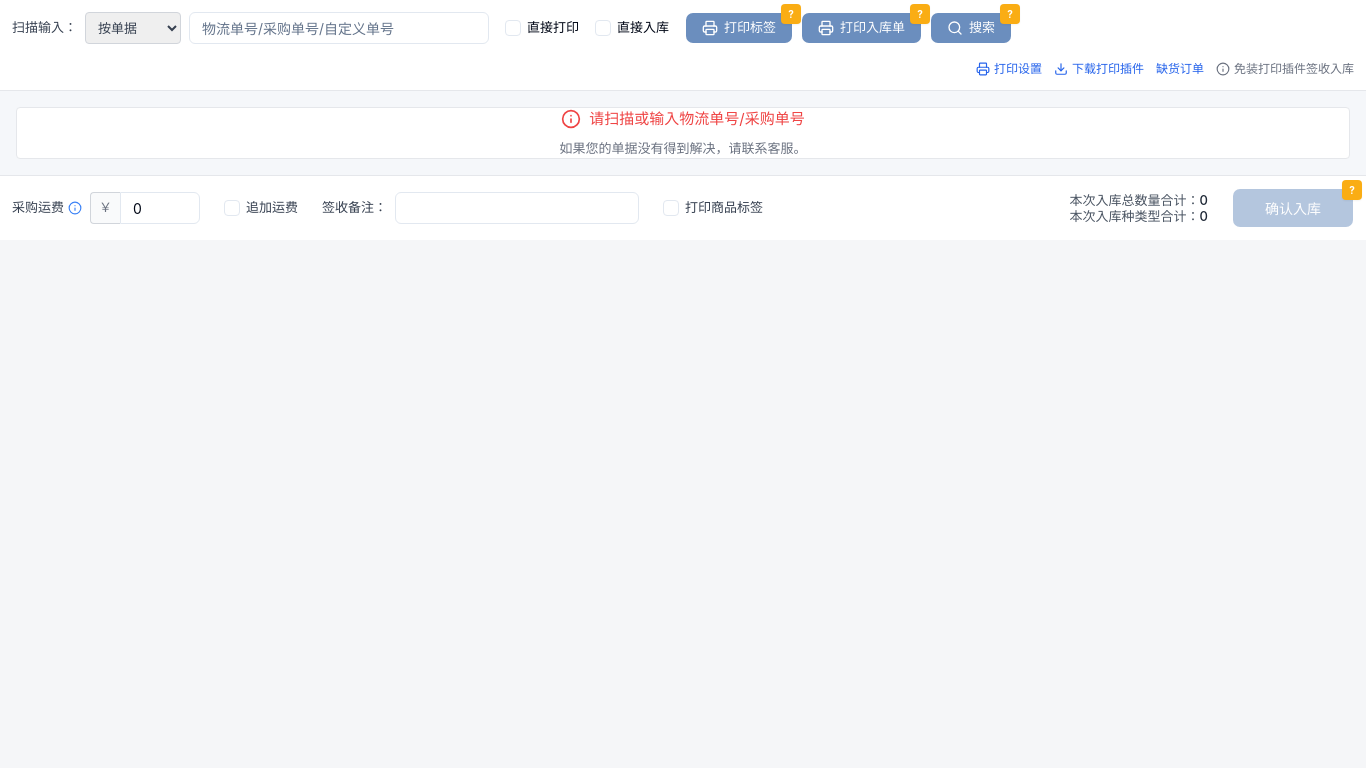
Test case: ScanReceive › searches purchase order by orderNo when status is 采购中
The width and height of the screenshot is (1366, 768).
Type "PO-SEARCH-001" into the field with placeholder "物流单号/采购单号/自定义单号" at (339, 28), box [189,12,489,44]
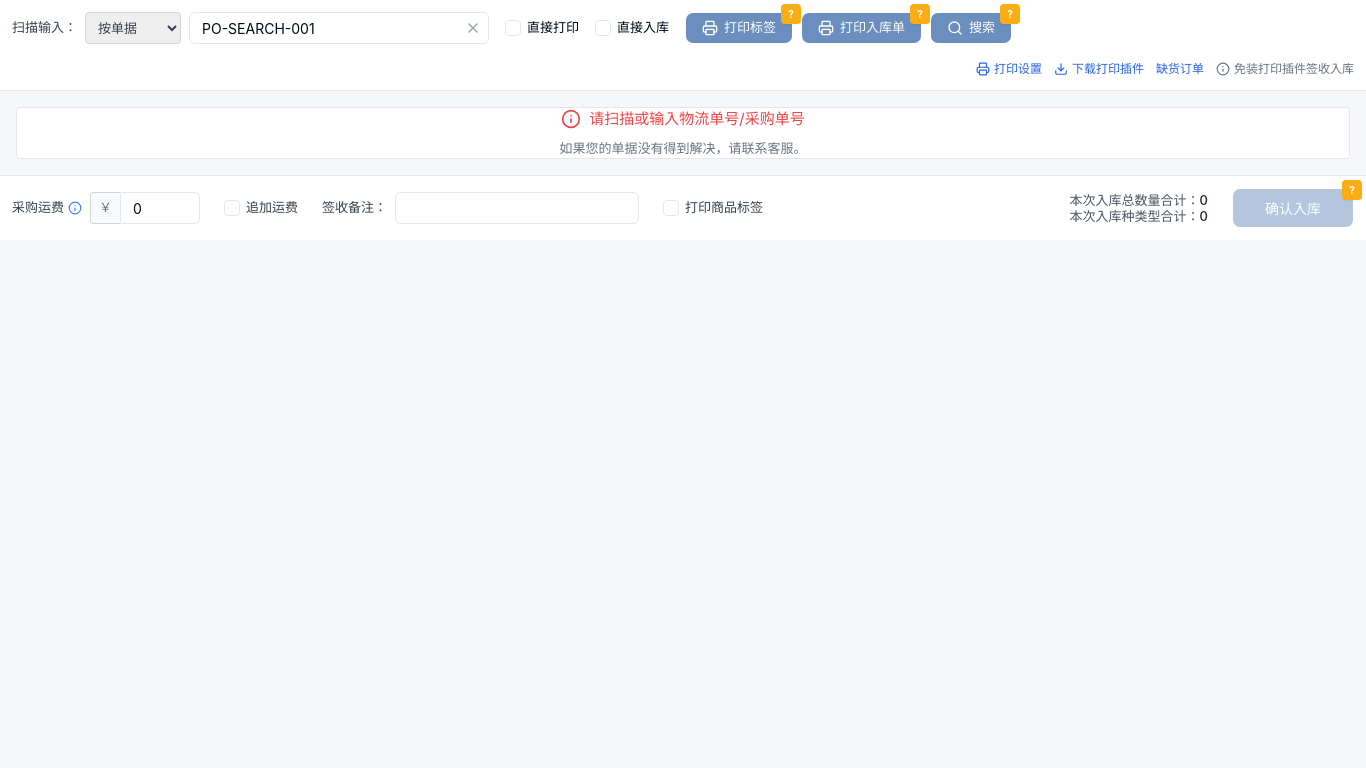
Press Enter in the field with placeholder "物流单号/采购单号/自定义单号" next to "扫描输入：", box [189,12,489,44]
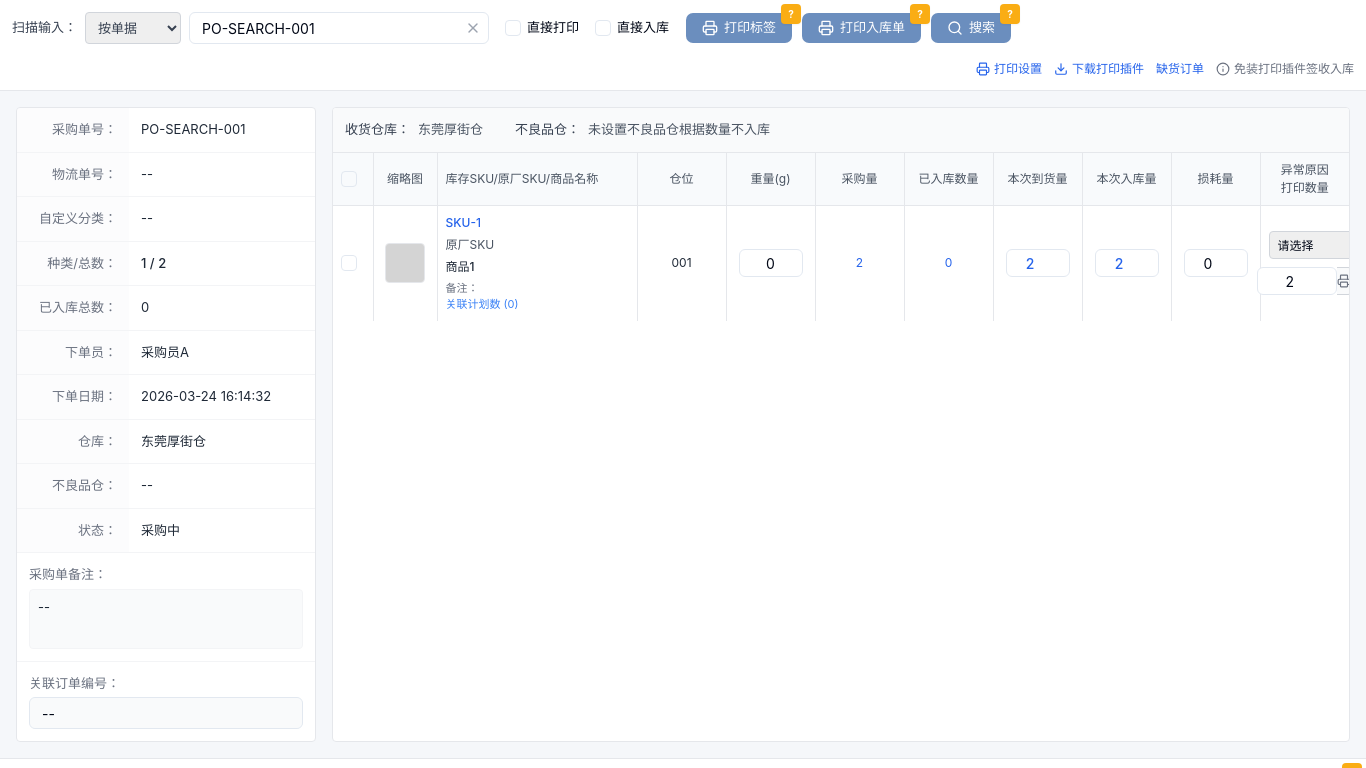
Expected: the text "PO-SEARCH-001" is shown, [141,121,246,137]
Expected: the text "采购中" is shown, [141,522,180,538]
